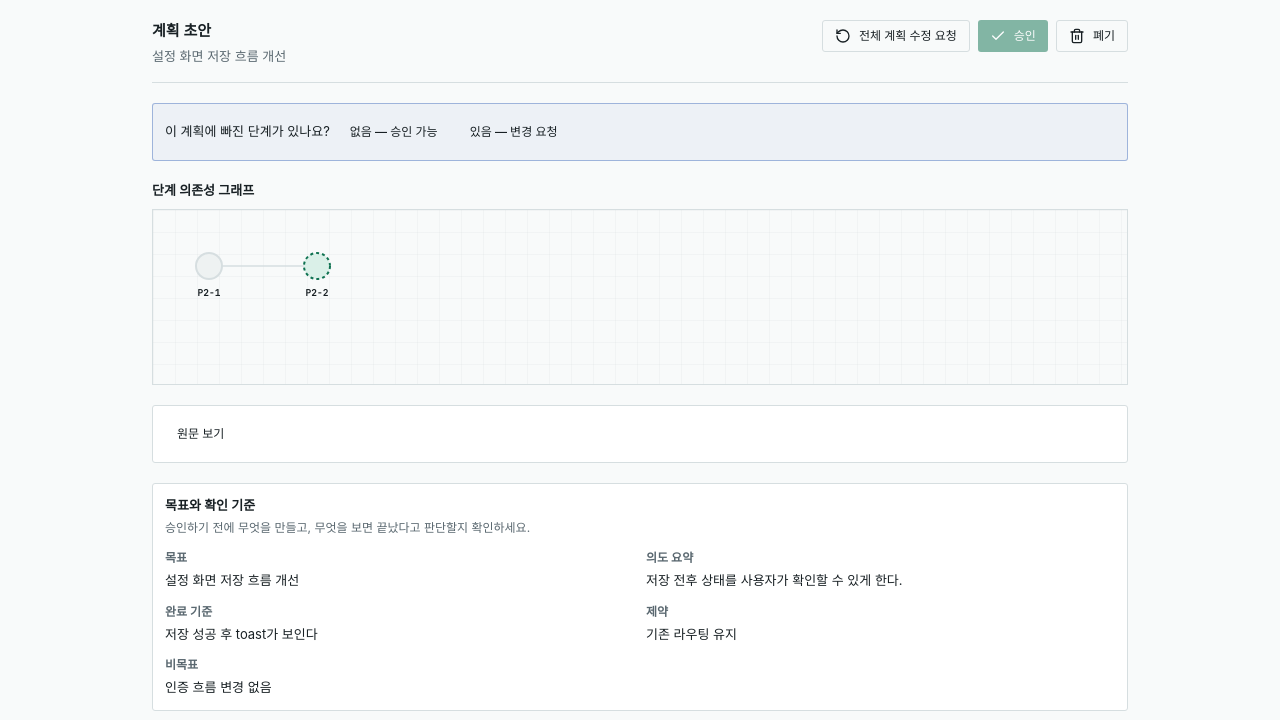
Test: PlanDraftApprovalScreen plan-critique gate (tutorial mode) › blocks approval until a one-line critique is recorded on the 'none' path (P1-14)
Expected: the button "승인" is disabled, [978, 20, 1048, 52]
"있음 — 변경 요청" keeps it blocked and shows no note field.
Click the button with test id "plan-critique-found".
click(514, 132)  # box [458, 116, 569, 148]
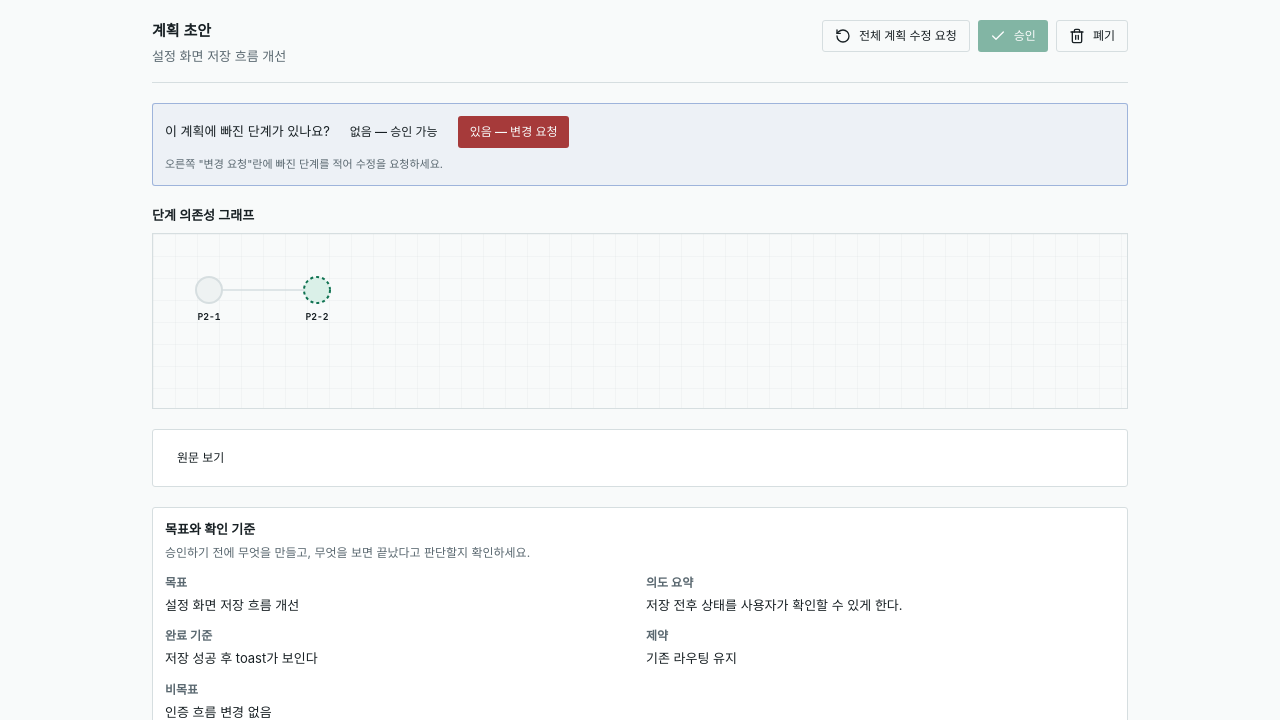
Expected: the button "승인" is disabled, [978, 20, 1048, 52]
"없음 — 승인 가능" reveals the note field but stays blocked until authored.
Click the button with test id "plan-critique-none".
click(394, 132)  # box [338, 116, 450, 148]
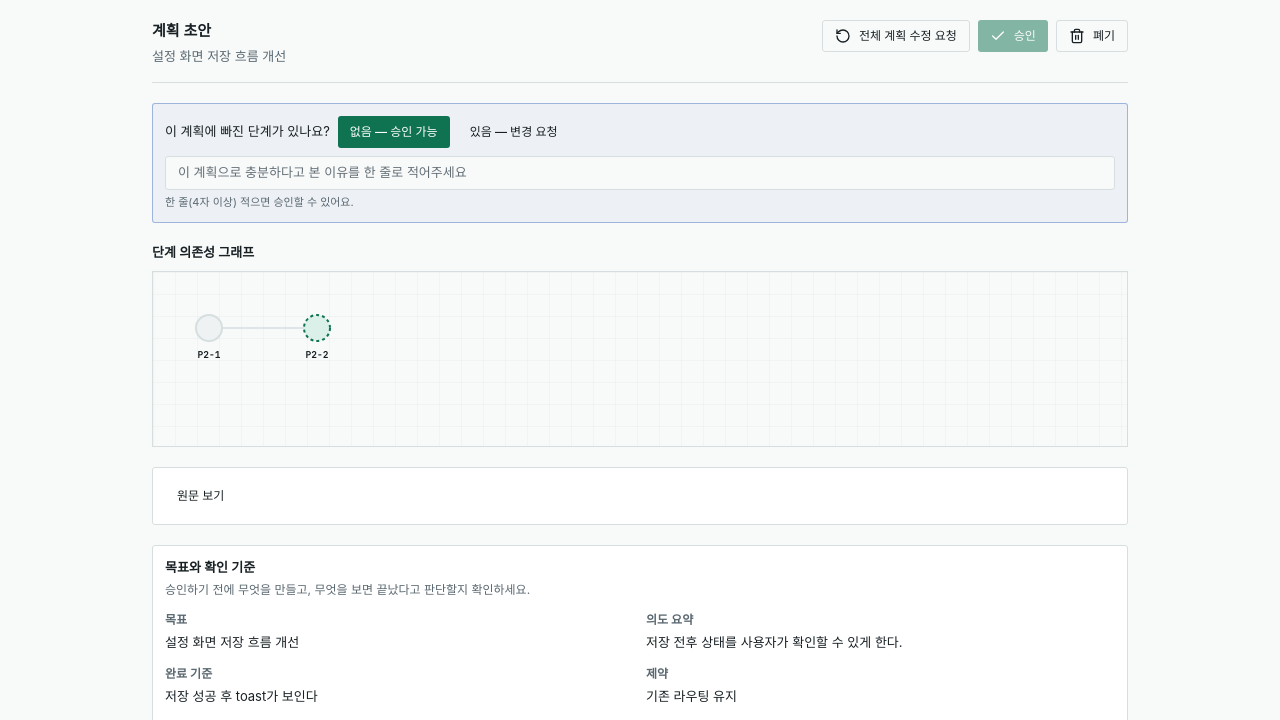
Expected: the button "승인" is disabled, [978, 20, 1048, 52]
Type "ok" into the field with test id "plan-critique-none-note".
click(640, 173); type("ok")  # box [165, 156, 1115, 190]
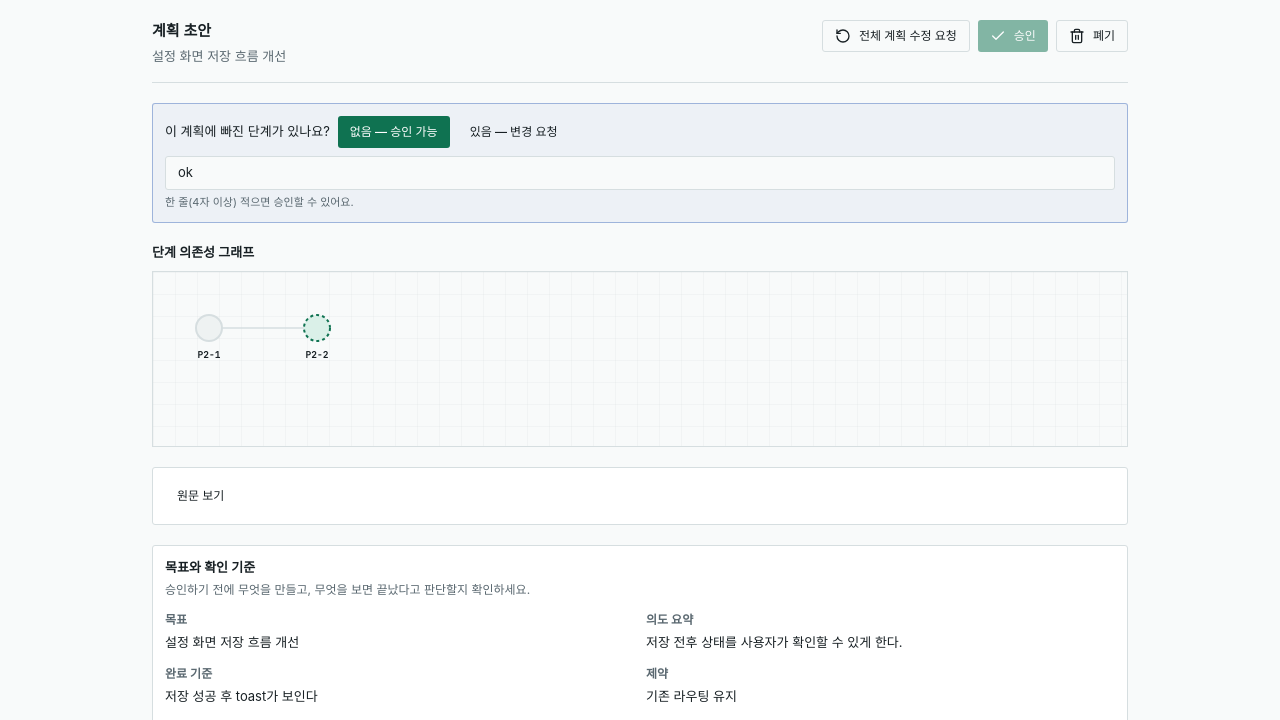
Expected: the button "승인" is disabled, [978, 20, 1048, 52]
Replace the text in the field with test id "plan-critique-none-note" with "단계가 충분함" at (640, 173), box [165, 156, 1115, 190]
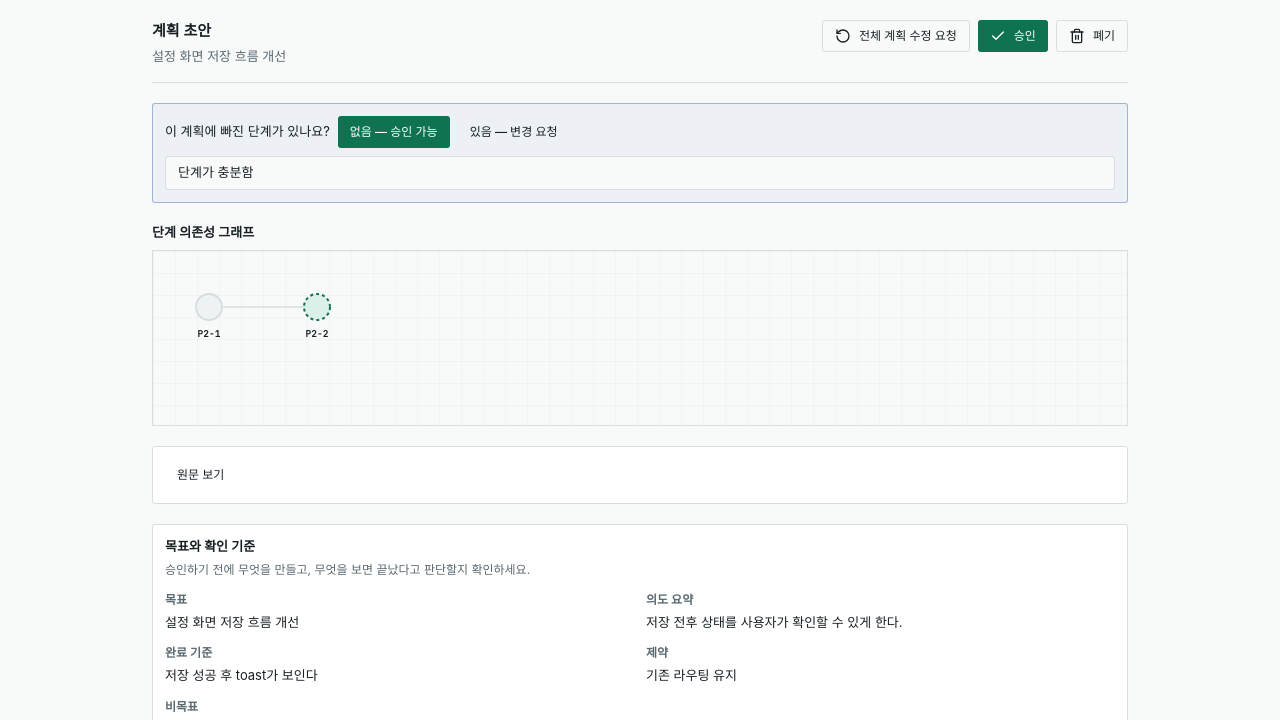
Expected: the button "승인" is enabled, [978, 20, 1048, 52]
